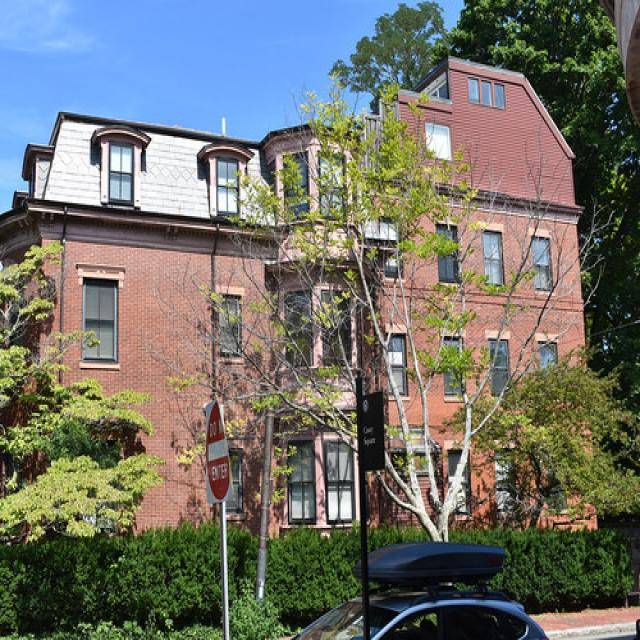Normal_building: (2, 48, 601, 538)
